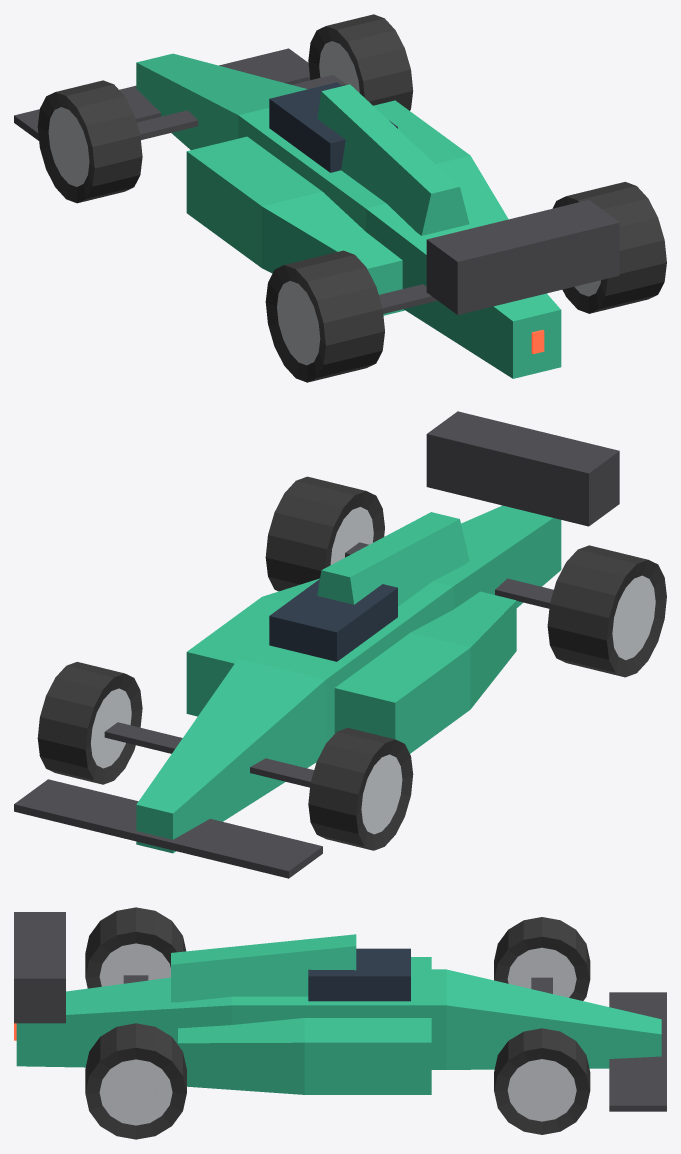
The model's file is formula-car.glb.
The picture shows the model from 3 angles, top to bottom: view 1: azimuth 30°, elevation 25°; view 2: azimuth 150°, elevation 25°; view 3: azimuth 270°, elevation 25°; orthographic projection. The views are drawn at different scales.
Parts seen in each view (by area): view 1: car_body.001, Body_Sidepods, Trim_RearWing, Wheel_RL.001, Body_Airbox, Wheel_FL.001, Wheel_RR.001, Wheel_FR.001, Cabin_VisorHalo, Body_FrontWing, Trim_FrontSuspension, Trim_RearSuspension; view 2: car_body.001, Body_Sidepods, Trim_RearWing, Wheel_RL.001, Wheel_FL.001, Body_FrontWing, Wheel_FR.001, Wheel_RR.001, Body_Airbox, Cabin_VisorHalo, Trim_FrontSuspension, Trim_RearSuspension; view 3: car_body.001, Body_Sidepods, Wheel_RR.001, Body_Airbox, Wheel_FR.001, Wheel_RL.001, Wheel_FL.001, Trim_RearWing, Body_FrontWing, Cabin_VisorHalo.
Boxes of the visible parts, x1=… form: car_body.001: x1=136, y1=53, x2=561, y2=378; Body_Sidepods: x1=186, y1=100, x2=508, y2=315; Trim_RearWing: x1=426, y1=200, x2=619, y2=314; Wheel_RL.001: x1=265, y1=250, x2=384, y2=382; Body_Airbox: x1=317, y1=84, x2=469, y2=235; Wheel_FL.001: x1=37, y1=80, x2=142, y2=203; Wheel_RR.001: x1=552, y1=181, x2=666, y2=313; Wheel_FR.001: x1=308, y1=14, x2=413, y2=110; Cabin_VisorHalo: x1=269, y1=82, x2=397, y2=172; Body_FrontWing: x1=14, y1=48, x2=310, y2=140; Trim_FrontSuspension: x1=137, y1=75, x2=345, y2=139; Trim_RearSuspension: x1=379, y1=284, x2=437, y2=313; car_body.001: x1=136, y1=505, x2=561, y2=853; Body_Sidepods: x1=186, y1=578, x2=516, y2=753; Trim_RearWing: x1=426, y1=411, x2=619, y2=526; Wheel_RL.001: x1=547, y1=545, x2=666, y2=677; Wheel_FL.001: x1=308, y1=728, x2=413, y2=850; Body_FrontWing: x1=14, y1=779, x2=322, y2=878; Wheel_FR.001: x1=37, y1=662, x2=142, y2=784; Wheel_RR.001: x1=265, y1=476, x2=384, y2=591; Body_Airbox: x1=317, y1=512, x2=469, y2=606; Cabin_VisorHalo: x1=269, y1=579, x2=397, y2=661; Trim_FrontSuspension: x1=104, y1=722, x2=313, y2=787; Trim_RearSuspension: x1=345, y1=542, x2=553, y2=608; car_body.001: x1=16, y1=969, x2=661, y2=1069; Body_Sidepods: x1=178, y1=957, x2=431, y2=1094; Wheel_RR.001: x1=85, y1=1023, x2=186, y2=1139; Body_Airbox: x1=171, y1=934, x2=356, y2=1002; Wheel_FR.001: x1=494, y1=1028, x2=590, y2=1134; Wheel_RL.001: x1=85, y1=907, x2=186, y2=988; Wheel_FL.001: x1=494, y1=917, x2=590, y2=1000; Trim_RearWing: x1=14, y1=912, x2=65, y2=1023; Body_FrontWing: x1=609, y1=992, x2=666, y2=1111; Cabin_VisorHalo: x1=308, y1=948, x2=410, y2=1001.
Bounding box in the file's own units: 2.42 × 1.04 × 4.76.
